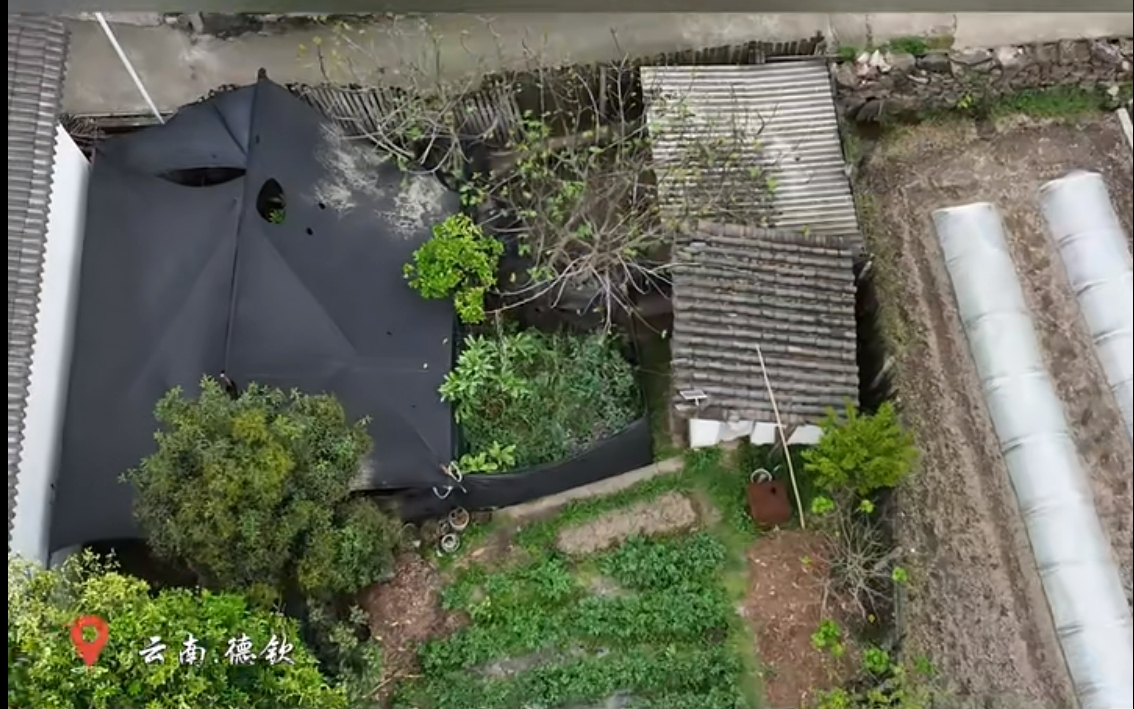Poppy: (499, 359, 643, 455)
